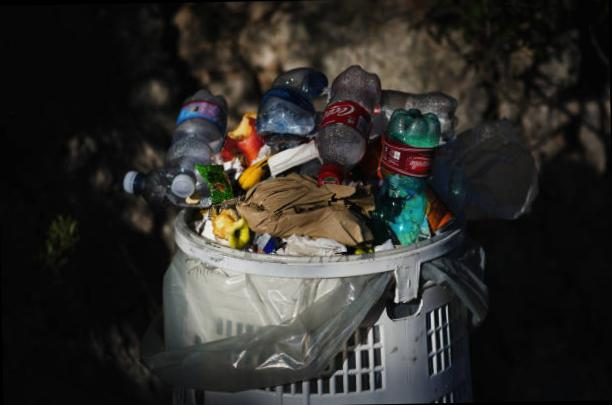trash: (101, 55, 528, 264)
trash_can_overflow: (113, 32, 501, 405)
